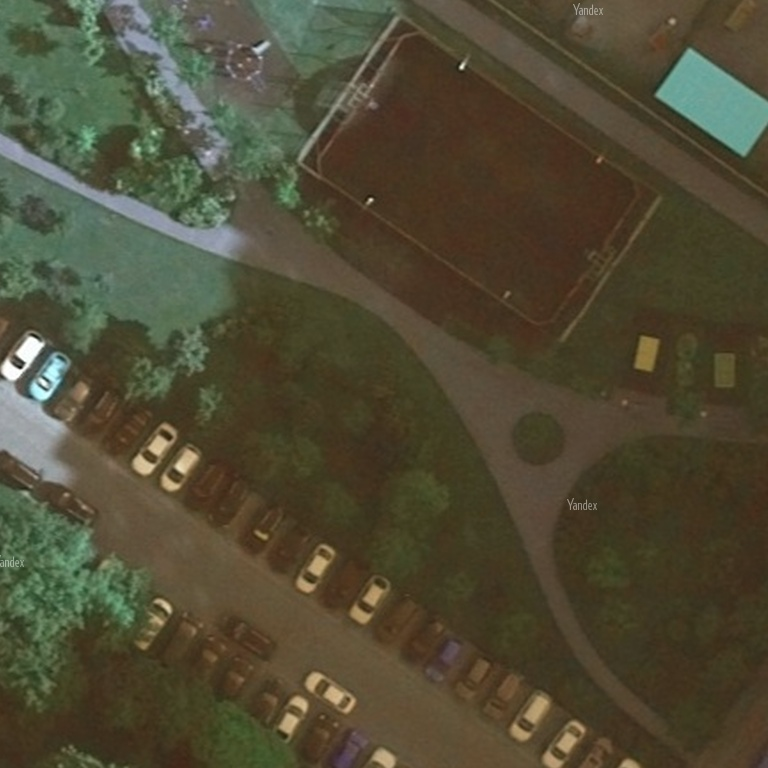basket_court: (287, 7, 672, 349)
